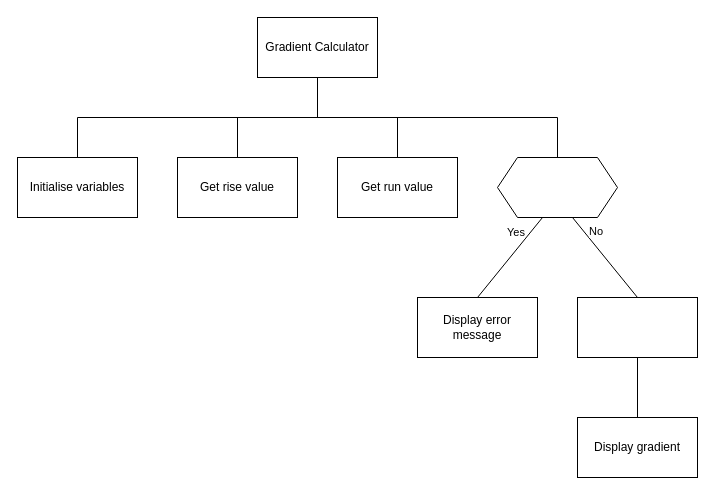
The diagram is 715 pixels wide and 495 high, and some of its shapes have lost their labels. The centre of each missing label's shape, as x and y in pixels:
Calculate gradient: [637,327]
is run = 0?: [557,187]
